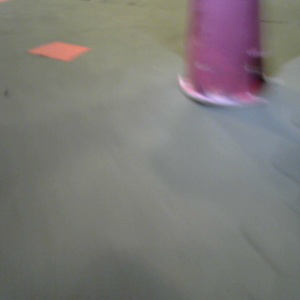right: (156, 1, 272, 109)
